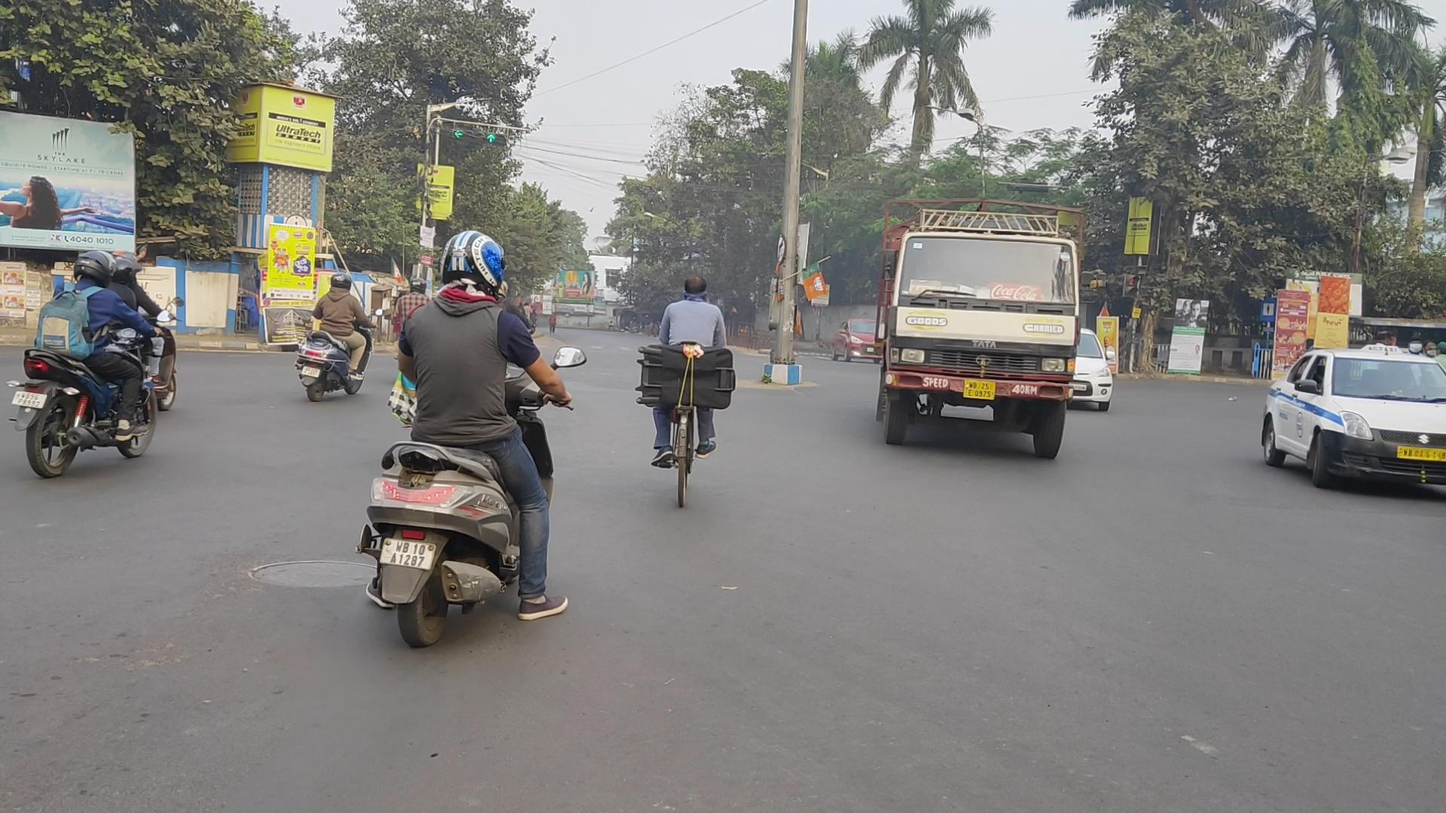bike: (357, 230, 589, 650), (8, 251, 172, 478), (635, 275, 737, 508), (298, 273, 385, 402)
car: (1261, 343, 1446, 492), (1070, 327, 1113, 413), (832, 317, 884, 364)
truck: (874, 195, 1085, 459)
